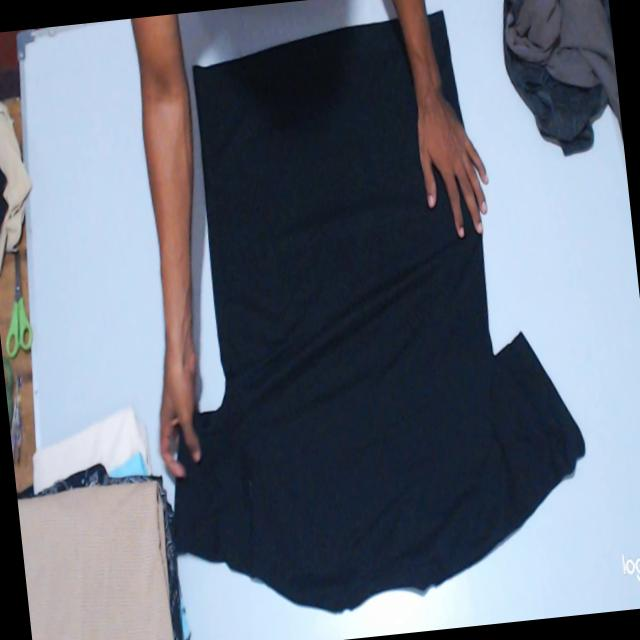new-garment: (174, 20, 584, 610)
